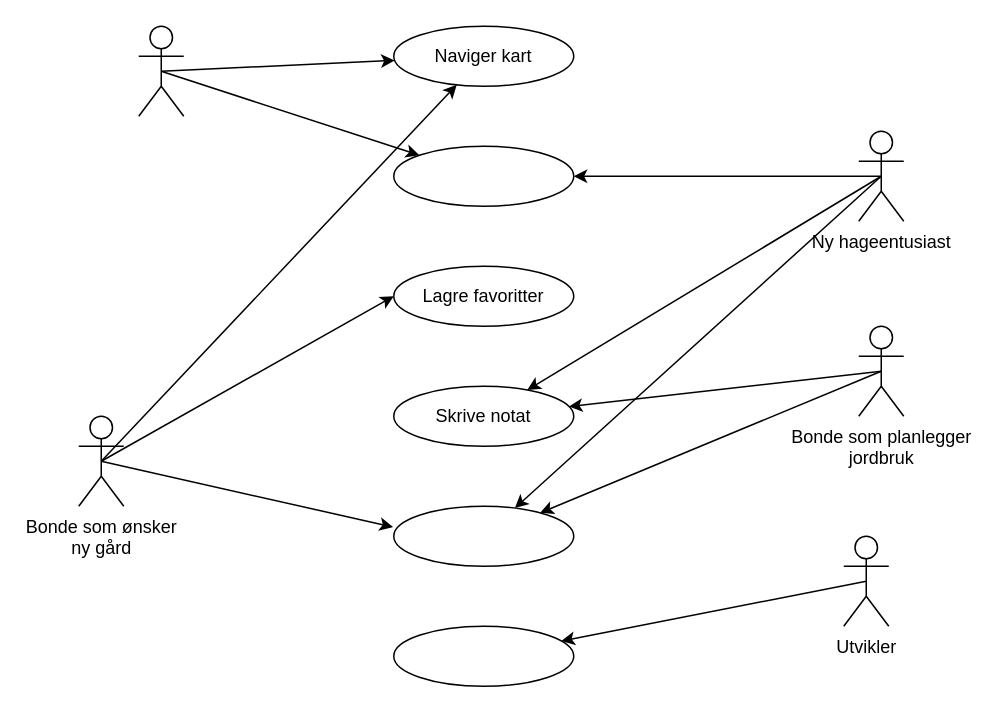
This 998x713 diagram has some shape labels left out. Here are the shapes that lost their labels. From the top down, the centre of each, then its label:
pixel 160 70: Lokal myndighet, ser etter klima-info om området
pixel 483 175: Lese graf
pixel 483 535: Planteprognose
pixel 483 655: Oppdater varseldata?
